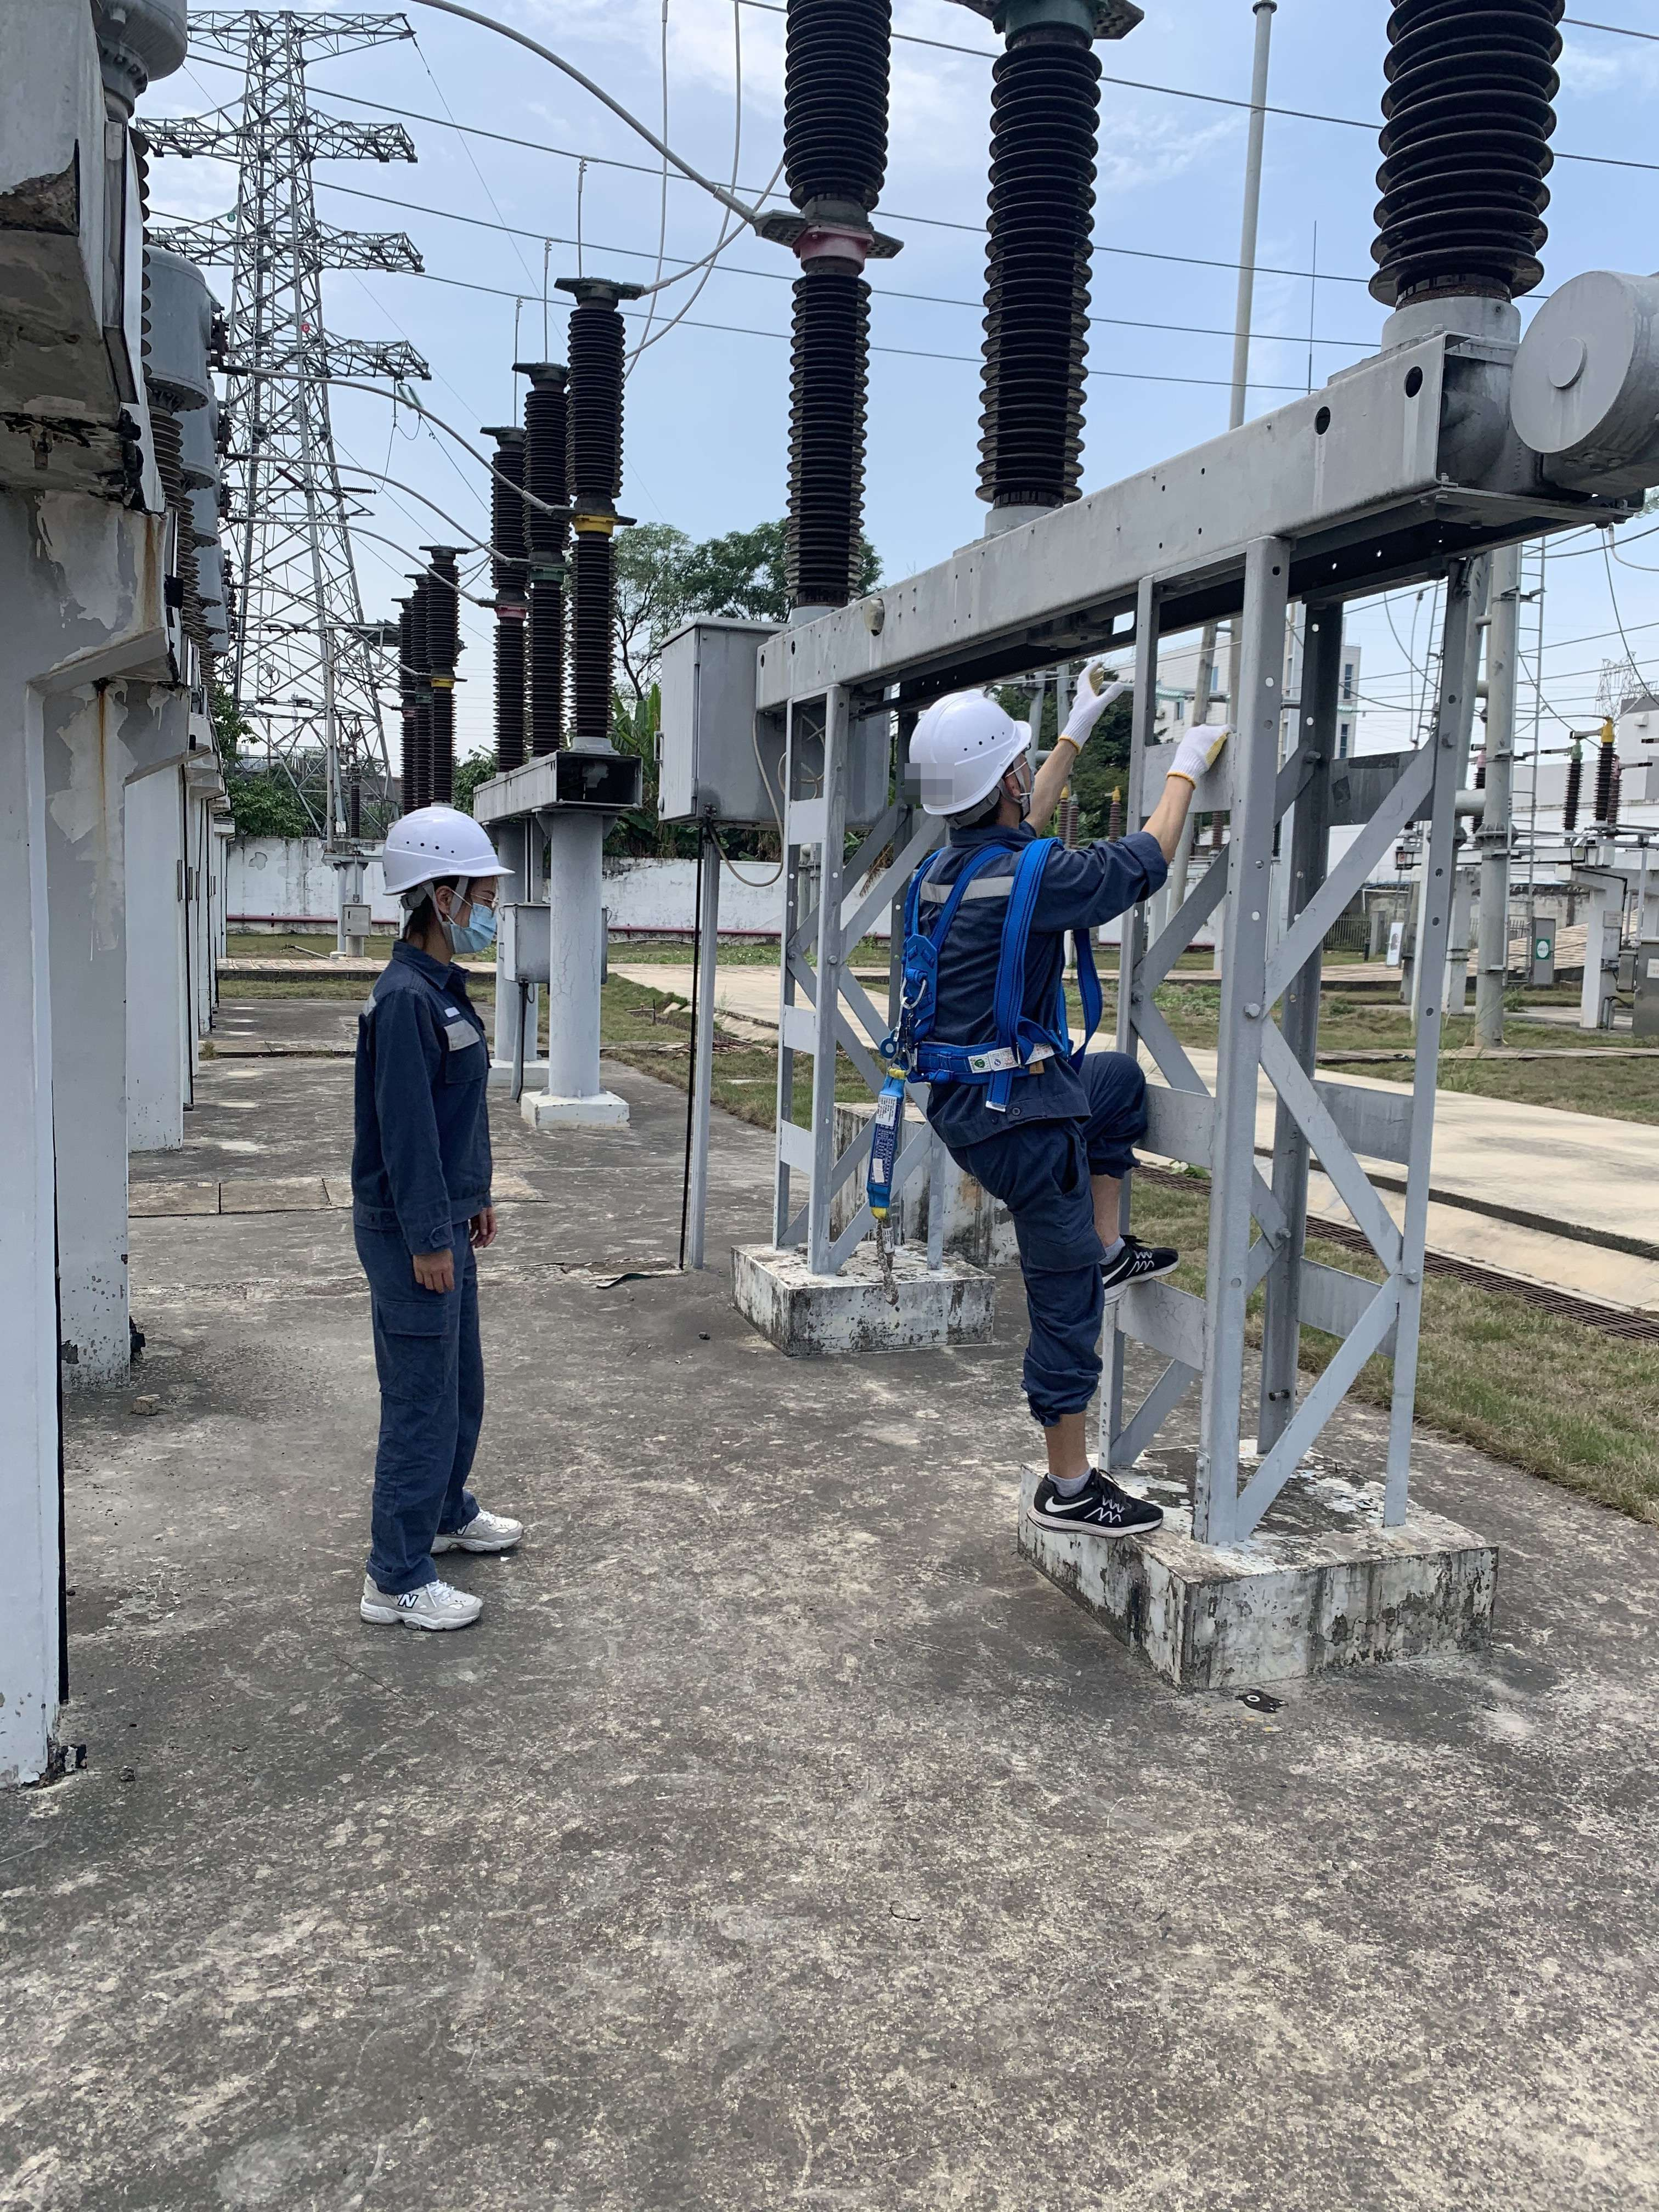downsuit: (924, 1136, 1147, 1411), (352, 1238, 498, 1590)
upsuit: (884, 831, 1168, 1054), (354, 953, 498, 1221)
wrongbottom: (1033, 1362, 1100, 1482), (1096, 1115, 1134, 1249)
wrongtop: (1127, 777, 1192, 900), (1030, 732, 1082, 826)
